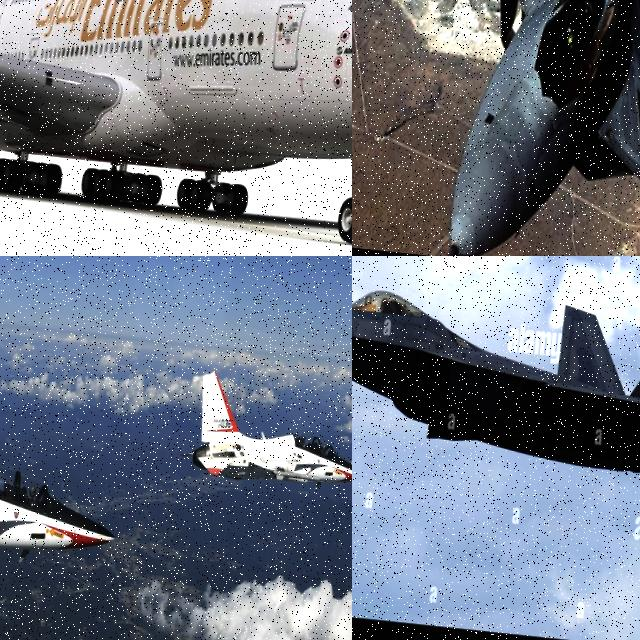A380: (0, 0, 352, 256)
F22: (352, 256, 640, 492), (380, 0, 640, 256)
KT-1: (0, 350, 134, 621), (177, 362, 352, 507)
